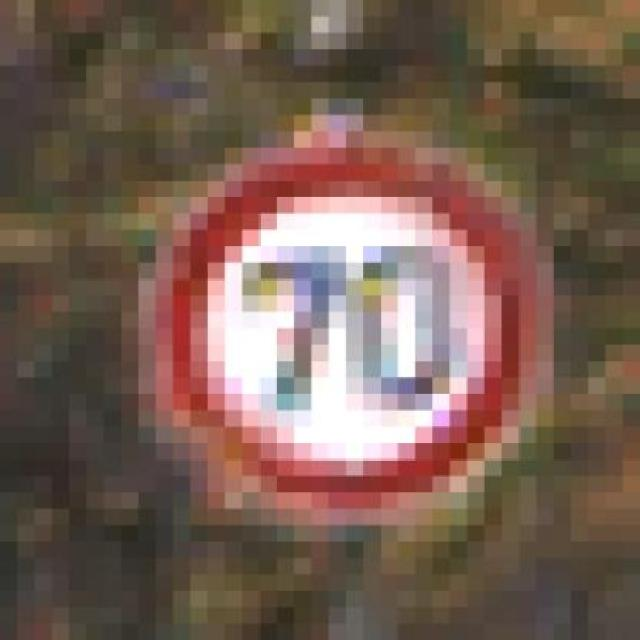forb_speed_over_70: (170, 155, 541, 507)
